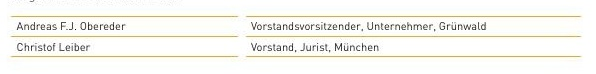table: (0, 0, 596, 74)
